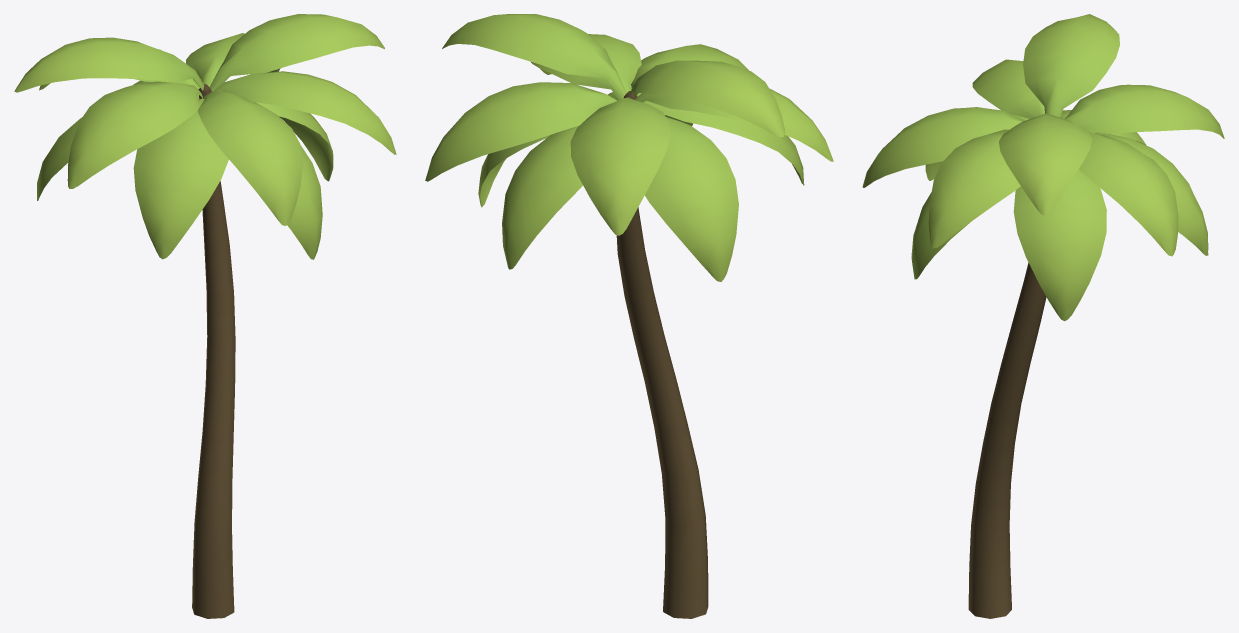
File: PalmTree1.FBX
The picture shows the model from 3 angles, left to right: view 1: azimuth 30°, elevation 25°; view 2: azimuth 150°, elevation 25°; view 3: azimuth 270°, elevation 25°; orthographic projection. The views are drawn at different scales.
Parts seen in each view (by area): view 1: PalmTree1; view 2: PalmTree1; view 3: PalmTree1.
Boxes of the visible parts, box(x1,y1,x2,y2) form: PalmTree1: box(14, 14, 396, 618); PalmTree1: box(425, 14, 833, 618); PalmTree1: box(862, 14, 1224, 618).
Size of the model in its own units: 348 by 319 by 534.
